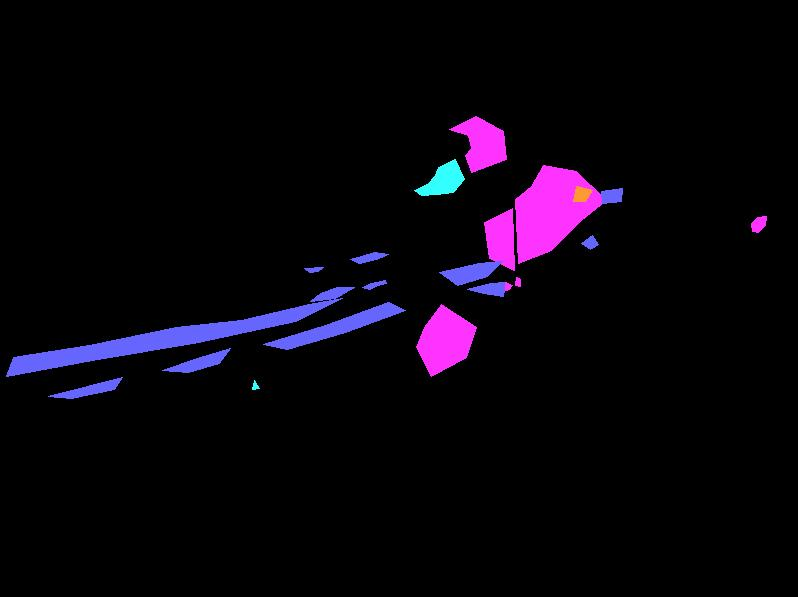Dent: (515, 165, 606, 263), (416, 304, 476, 376), (449, 116, 506, 172), (484, 208, 514, 270), (751, 216, 766, 232), (505, 282, 512, 290), (515, 277, 520, 286)
Flaking: (414, 159, 464, 195), (252, 380, 259, 389)
Paint chip: (573, 186, 592, 201)
Scratch: (6, 298, 342, 376), (263, 302, 405, 349), (162, 348, 230, 372), (48, 377, 122, 398), (439, 261, 502, 285), (310, 287, 354, 301), (467, 282, 505, 296), (350, 252, 388, 263), (601, 188, 622, 203), (581, 235, 598, 249), (362, 280, 386, 289), (304, 267, 323, 272)
